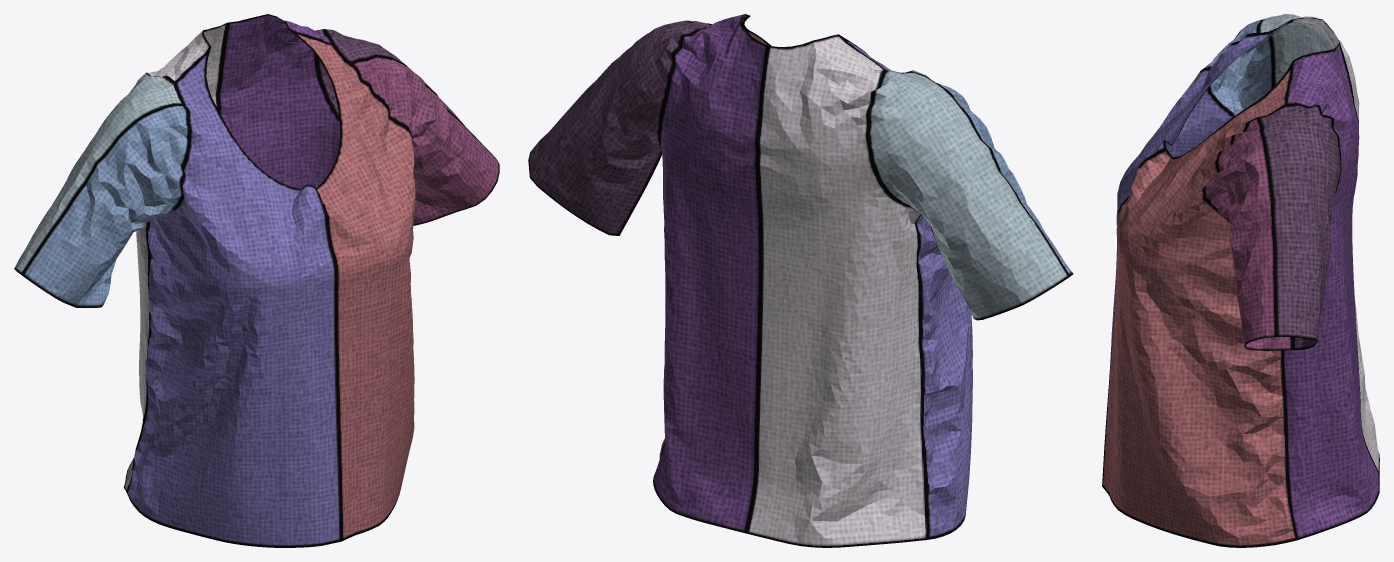
Rendered from tee_long_f11_warp_sim.obj.
3 views of the same model, side by side, from view 1: azimuth 30°, elevation 25°; view 2: azimuth 150°, elevation 25°; view 3: azimuth 270°, elevation 25° (orthographic). The views are drawn at different scales.
Bounding box in the file's own units: 48.19 × 42.82 × 23.75.
Materials: 1 (1 with a texture image).
